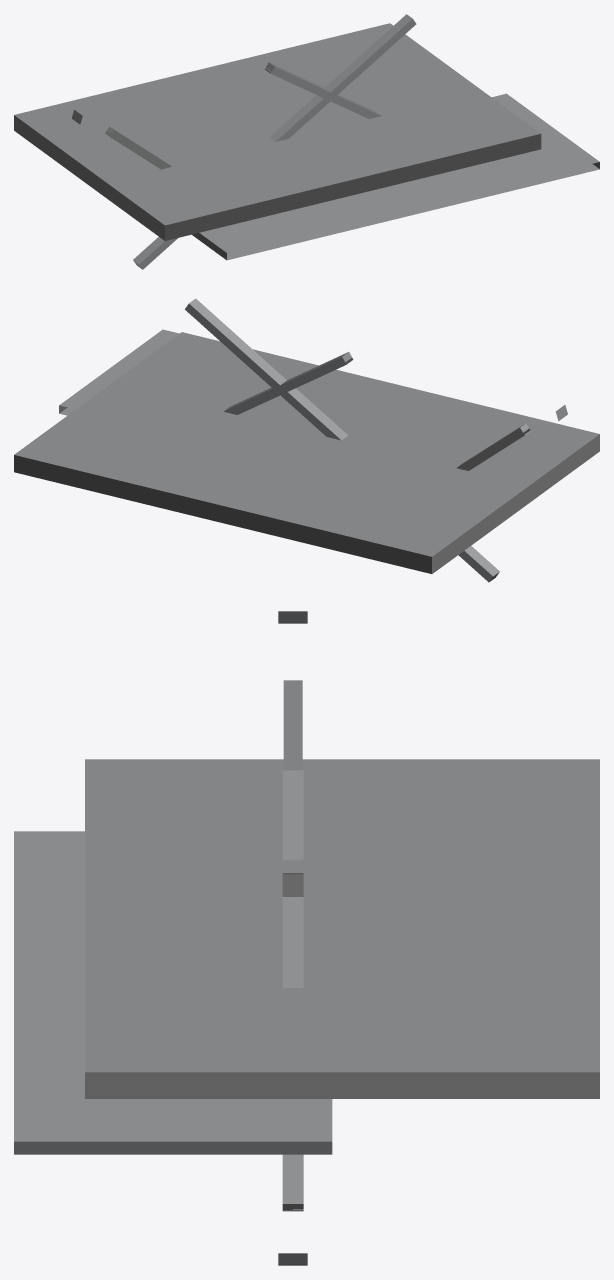
3 renders of one model, top to bottom at view 1: azimuth 30°, elevation 25°; view 2: azimuth 150°, elevation 25°; view 3: azimuth 270°, elevation 25°, orthographic. The views are drawn at different scales.
Size of the model in its own units: 0.7652 by 0.2963 by 0.498.
